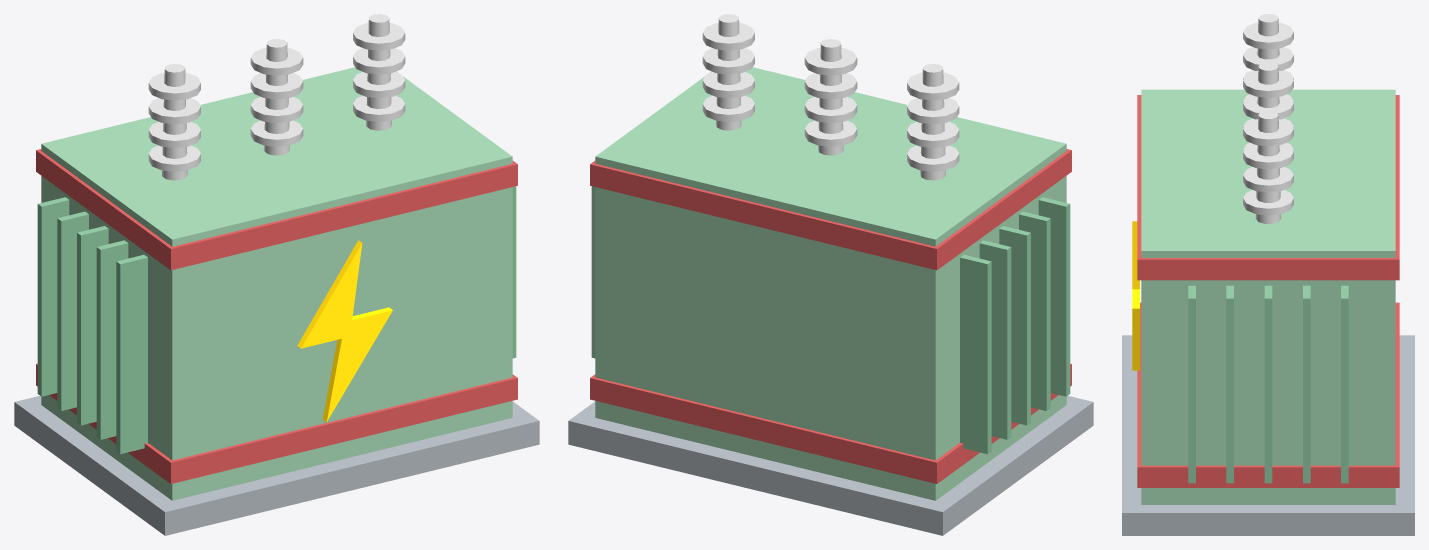
File: transformer.glb
The picture shows the model from 3 angles, left to right: view 1: azimuth 30°, elevation 25°; view 2: azimuth 150°, elevation 25°; view 3: azimuth 270°, elevation 25°; orthographic projection. The views are drawn at different scales.
Visible parts, largest first — view 1: tank, fin (×6), band (×2), plinth, bushing_disc (×12), bolt, bushing (×3); view 2: tank, fin (×6), band (×2), plinth, bushing_disc (×12), bushing (×3); view 3: tank, band (×2), plinth, fin (×5), bushing_disc (×8), bushing (×3), bolt.
Boxes of the visible parts, bbox=[...] form: tank: bbox=[41, 67, 512, 500]; fin (×6): bbox=[37, 186, 516, 454]; band (×2): bbox=[36, 149, 517, 483]; plinth: bbox=[14, 396, 539, 535]; bushing_disc (×12): bbox=[148, 22, 405, 171]; bolt: bbox=[297, 240, 392, 422]; bushing (×3): bbox=[162, 14, 391, 180]; tank: bbox=[595, 67, 1066, 500]; fin (×6): bbox=[591, 186, 1070, 454]; band (×2): bbox=[590, 149, 1071, 483]; plinth: bbox=[568, 396, 1093, 535]; bushing_disc (×12): bbox=[702, 22, 959, 171]; bushing (×3): bbox=[716, 14, 945, 180]; tank: bbox=[1141, 89, 1395, 504]; band (×2): bbox=[1137, 95, 1399, 487]; plinth: bbox=[1122, 335, 1414, 535]; fin (×5): bbox=[1188, 285, 1348, 483]; bushing_disc (×8): bbox=[1243, 22, 1293, 215]; bushing (×3): bbox=[1255, 14, 1281, 223]; bolt: bbox=[1132, 221, 1139, 370].
Bounding box in the file's own units: 3.49 × 3.3 × 2.3.
